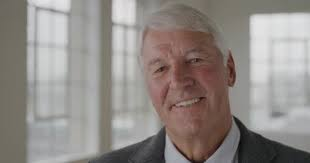white_male: (146, 32, 224, 130)
